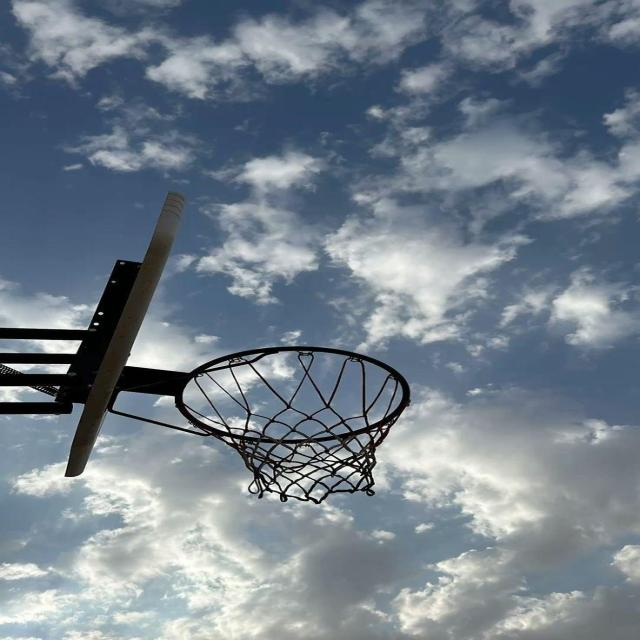hoop: (193, 324, 420, 512)
